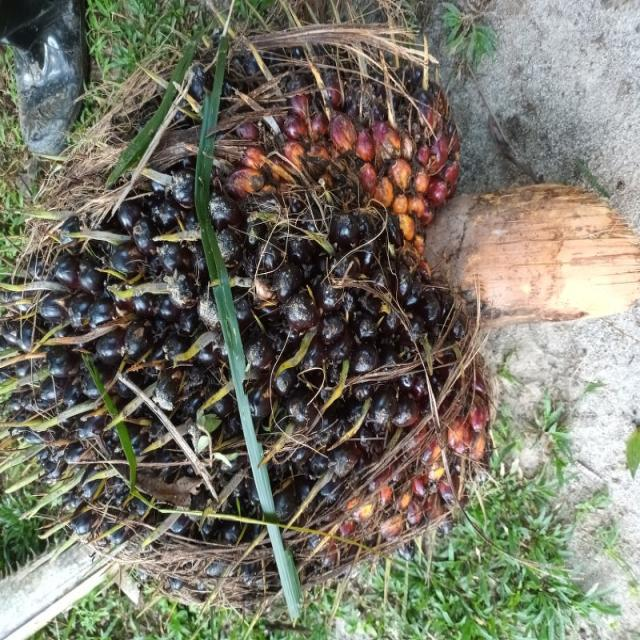fraksi 00: (3, 25, 428, 640)
